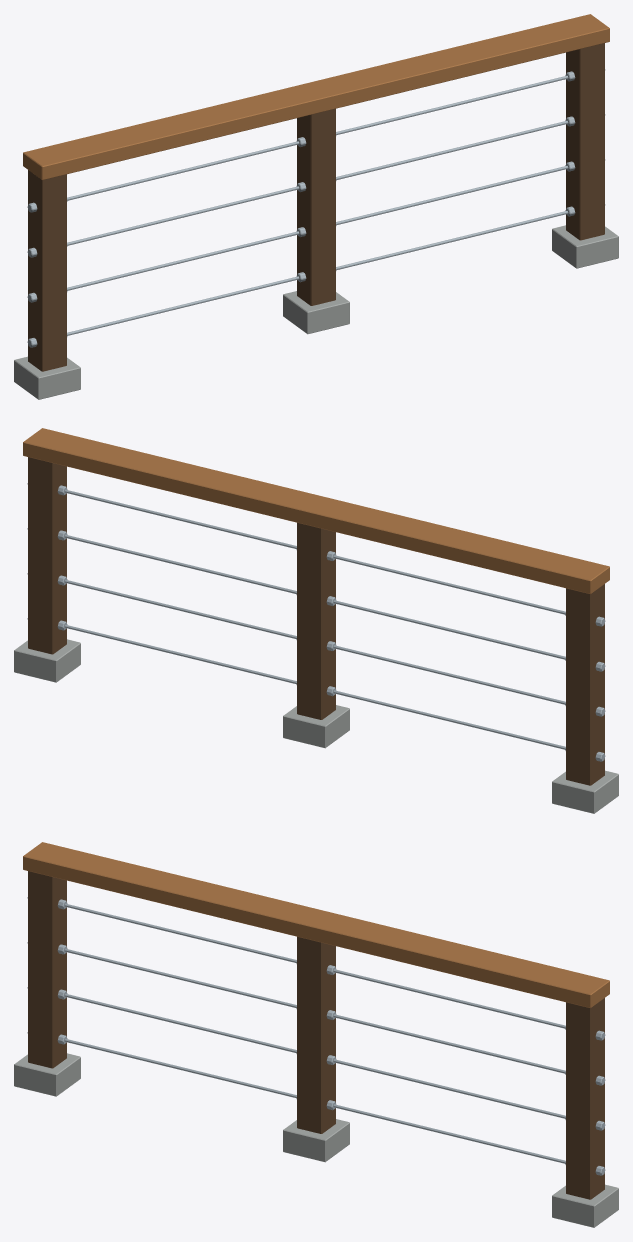
The model's file is b19_timber_post_cable_boundary.glb.
3 renders of one model, top to bottom at view 1: azimuth 30°, elevation 25°; view 2: azimuth 150°, elevation 25°; view 3: azimuth 330°, elevation 25°, orthographic.
Visible parts, largest first — view 1: b19_timber_post_cable_boundary; view 2: b19_timber_post_cable_boundary; view 3: b19_timber_post_cable_boundary.
Part boxes in pixels (bbox=[...]): b19_timber_post_cable_boundary: bbox=[14, 14, 618, 399]; b19_timber_post_cable_boundary: bbox=[14, 428, 618, 813]; b19_timber_post_cable_boundary: bbox=[14, 842, 618, 1227].
Size of the model in its own units: 3.24 by 1.23 by 0.24.
